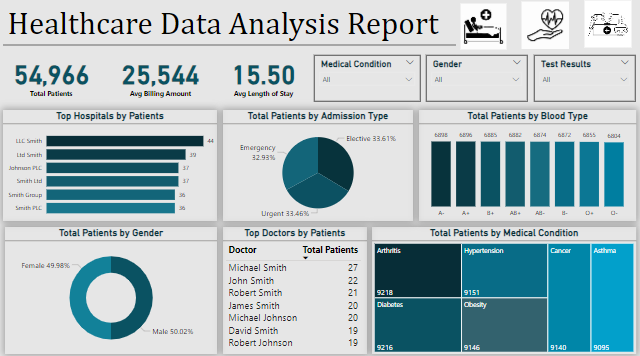

The page's visual inventory and layout, read from the dashboard file:
{"tool":"powerbi","page":{"name":"Page 1","canvas":[1280,720],"ordinal":0},"visuals":[{"type":"tableEx","title":"Top Doctors by Patients","fields":{"Values":["FactHealthcareData.Doctor","FactHealthcareData.Total Patients"]},"box":[445.6,460,287.8,254.4],"z":0},{"type":"clusteredBarChart","title":"Top Hospitals by Patients","fields":{"Category":["FactHealthcareData.Hospital"],"Y":["CountNonNull(FactHealthcareData.PatientID)"]},"box":[5,226,428,222],"z":1000},{"type":"card","title":"Patients by Gender","fields":{"Values":["FactHealthcareData.Avg Length of Stay"]},"box":[424.3,105.7,205.7,102.9],"z":2000},{"type":"card","title":"Patients by Gender","fields":{"Values":["FactHealthcareData.Avg Billing Amount"]},"box":[218.6,105.7,205.7,102.9],"z":3000},{"type":"columnChart","title":"Total Patients by Blood Type","fields":{"Category":["dimBlood_Type.Blood_Type"],"Y":["CountNonNull(FactHealthcareData.PatientID)"]},"box":[837,226,435,222],"z":4000},{"type":"treemap","title":"Total Patients by Medical Condition","fields":{"Values":["CountNonNull(FactHealthcareData.PatientID)"],"Group":["dimMedicalCondition.Medical_Condition"]},"box":[743.3,460,528.9,254.4],"z":5000},{"type":"slicer","title":"Patients by Gender","fields":{"Values":["dimMedicalCondition.Medical_Condition"]},"box":[627.1,115.7,212.9,92.9],"z":6000},{"type":"pieChart","title":"Total Patients by Admission Type","fields":{"Y":["CountNonNull(FactHealthcareData.PatientID)"],"Category":["DimAdmissionType.Admission_Type"]},"box":[445,226,380,222],"z":7000},{"type":"card","title":"Patients by Gender","fields":{"Values":["FactHealthcareData.Total Patients"]},"box":[0,105.7,204.3,102.9],"z":8000},{"type":"slicer","title":"Patients by Gender","fields":{"Values":["FactHealthcareData.Gender"]},"box":[851.4,115.7,202.9,92.9],"z":9000},{"type":"slicer","title":"Patients by Gender","fields":{"Values":["DimTestResults.Test_Results"]},"box":[1068.6,115.7,202.9,92.9],"z":10000},{"type":"textbox","title":"Healthcare Data Analysis Report","box":[10.5,13.4,905.2,101.6],"z":11000},{"type":"image","box":[1038.2,4.5,104.6,104.6],"z":12000},{"type":"image","box":[1162.9,2.9,108.6,104.3],"z":13000},{"type":"image","box":[915.7,4.5,101.6,110.5],"z":14000},{"type":"shape","box":[5.6,75.6,905.6,40],"z":15000},{"type":"donutChart","title":"Total Patients by Gender","fields":{"Y":["CountNonNull(FactHealthcareData.PatientID)"],"Category":["FactHealthcareData.Gender"]},"box":[10,460,424.3,254.3],"z":16000}]}

Visuals, with their boxes in screenshot pixels (x1, y1, x2, y2), scaled from the page's 1280x720 canvas onto the 640x356 screenshot:
"Top Doctors by Patients" tableEx: (223, 227, 367, 353)
"Top Hospitals by Patients" clusteredBarChart: (2, 112, 216, 222)
"Patients by Gender" card: (212, 52, 315, 103)
"Patients by Gender" card: (109, 52, 212, 103)
"Total Patients by Blood Type" columnChart: (418, 112, 636, 222)
"Total Patients by Medical Condition" treemap: (372, 227, 636, 353)
"Patients by Gender" slicer: (314, 57, 420, 103)
"Total Patients by Admission Type" pieChart: (222, 112, 412, 222)
"Patients by Gender" card: (0, 52, 102, 103)
"Patients by Gender" slicer: (426, 57, 527, 103)
"Patients by Gender" slicer: (534, 57, 636, 103)
"Healthcare Data Analysis Report" textbox: (5, 7, 458, 57)
image: (519, 2, 571, 54)
image: (581, 1, 636, 53)
image: (458, 2, 509, 57)
shape: (3, 37, 456, 57)
"Total Patients by Gender" donutChart: (5, 227, 217, 353)
